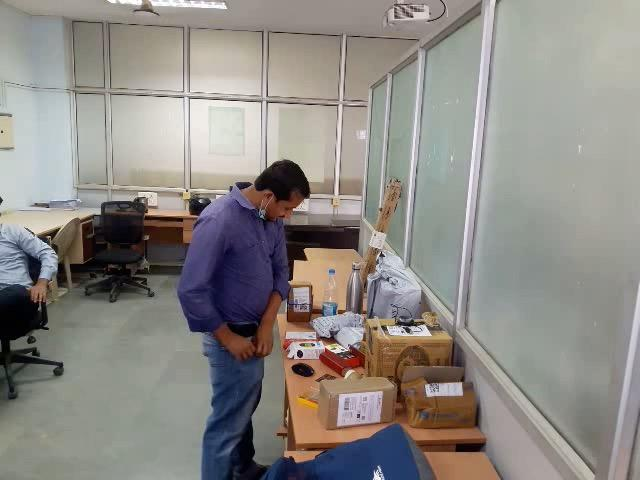shoplifting: (166, 259, 307, 389)
